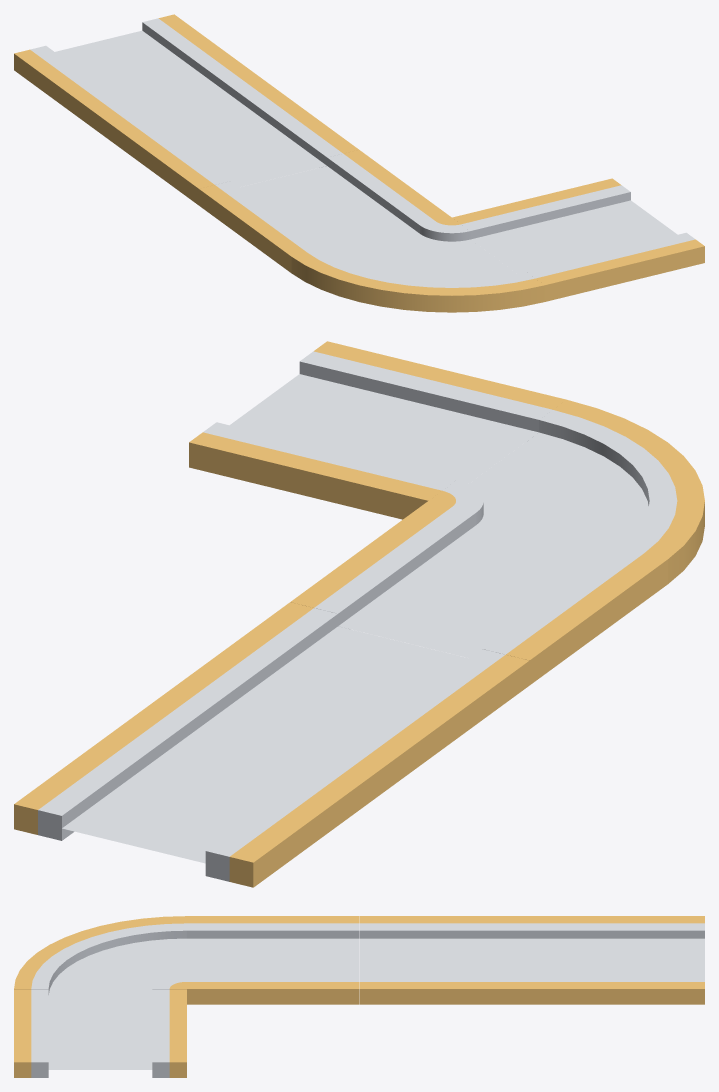
File: road1.glb
The picture shows the model from 3 angles, top to bottom: view 1: azimuth 30°, elevation 25°; view 2: azimuth 150°, elevation 25°; view 3: azimuth 270°, elevation 25°; orthographic projection. The views are drawn at different scales.
Visible parts, largest first — view 1: platform_straight.003, platform_straight.002, platform_straight.001, platform_straight, platform_cornerRound; view 2: platform_straight, platform_straight.003, platform_straight.002, platform_straight.001, platform_cornerRound; view 3: platform_straight, platform_straight.002, platform_straight.001, platform_straight.003, platform_cornerRound.
Boxes of the visible parts, box(x1,y1,x2,y2) form: platform_straight.003: box(452, 178, 704, 301); platform_straight.002: box(199, 150, 451, 273); platform_straight.001: box(106, 82, 358, 205); platform_straight: box(14, 14, 266, 137); platform_cornerRound: box(291, 217, 544, 312); platform_straight: box(14, 703, 391, 887); platform_straight.003: box(189, 341, 566, 519); platform_straight.002: box(290, 501, 667, 684); platform_straight.001: box(152, 602, 529, 785); platform_cornerRound: box(429, 400, 704, 583); platform_straight: box(532, 916, 704, 1004); platform_straight.002: box(187, 916, 359, 1004); platform_straight.001: box(360, 916, 532, 1004); platform_straight.003: box(14, 989, 186, 1077); platform_cornerRound: box(14, 916, 186, 996).
Bounding box in the file's own units: 2 × 0.1 × 4.
